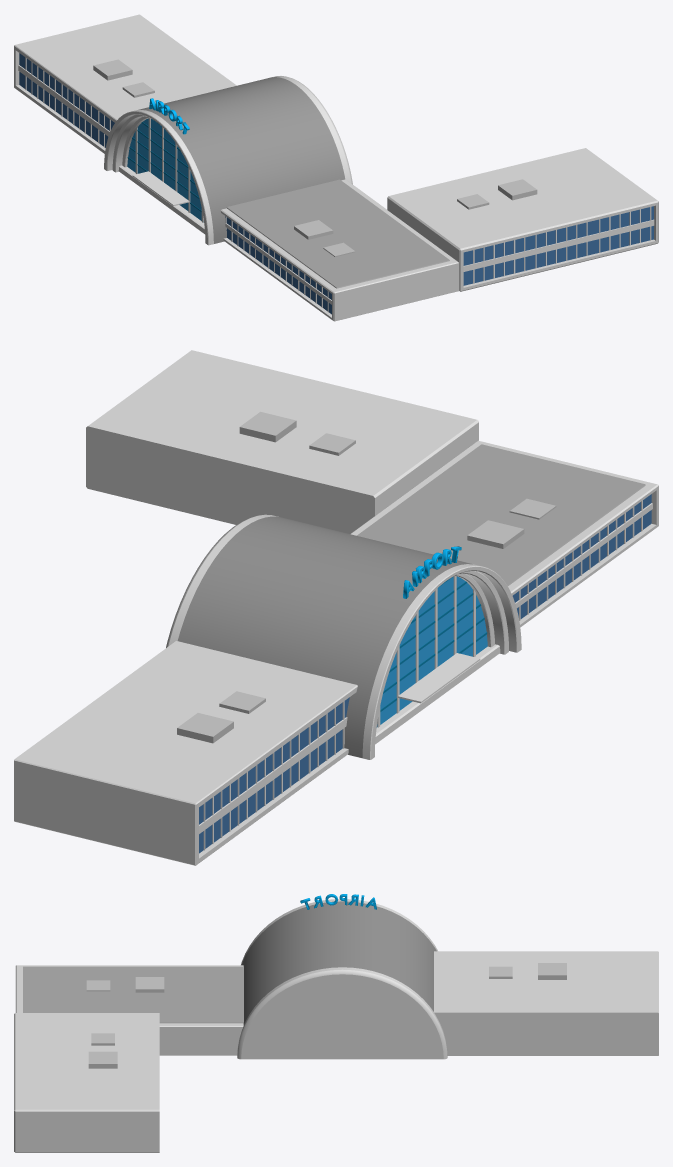
The model's file is AIRPORT2.fbx.
3 views of the same model, one above another, from view 1: azimuth 30°, elevation 25°; view 2: azimuth 150°, elevation 25°; view 3: azimuth 270°, elevation 25° (orthographic). The views are drawn at different scales.
Visible parts, largest first — view 1: Cube.018, Cube.013, Cylinder.011, Cube.007, Cylinder.014, Cube.022, Cube.029, Cube.004, Cube.008, Cube.012, Cylinder.012, Cube.005 (+5 smaller); view 2: Cube.007, Cube.018, Cylinder.011, Cube.013, Cylinder.014, Cube.029, Cube.004, Cube.012, Cube.008, Cylinder.012, Cube.027, Cube.023 (+4 smaller); view 3: Cylinder.011, Cube.007, Cube.018, Cube.013, Cube.027, Text, Cube.023, Cube.025.
Part boxes in pixels (<box>): Cube.018: <box>387,148,658,291</box>; Cube.013: <box>220,179,458,321</box>; Cylinder.011: <box>104,76,352,245</box>; Cube.007: <box>14,14,236,153</box>; Cylinder.014: <box>127,118,203,222</box>; Cube.022: <box>463,219,654,271</box>; Cube.029: <box>132,171,189,205</box>; Cube.004: <box>118,165,205,234</box>; Cube.008: <box>135,118,203,222</box>; Cube.012: <box>18,65,109,136</box>; Cylinder.012: <box>112,114,146,172</box>; Cube.005: <box>127,119,201,211</box>; Cube.007: <box>14,641,357,865</box>; Cube.018: <box>86,350,478,533</box>; Cylinder.011: <box>166,514,521,759</box>; Cube.013: <box>350,440,658,627</box>; Cylinder.014: <box>376,576,487,727</box>; Cube.029: <box>398,653,480,703</box>; Cube.004: <box>375,644,500,744</box>; Cube.012: <box>199,717,347,833</box>; Cube.008: <box>377,576,475,727</box>; Cylinder.012: <box>459,571,508,654</box>; Cube.027: <box>239,411,296,442</box>; Cube.023: <box>177,713,233,743</box>; Cylinder.011: <box>237,899,447,1059</box>; Cube.007: <box>434,951,658,1055</box>; Cube.018: <box>14,1013,159,1152</box>; Cube.013: <box>15,965,243,1055</box>; Cube.027: <box>88,1051,117,1068</box>; Text: <box>300,894,376,909</box>; Cube.023: <box>538,963,566,979</box>; Cube.025: <box>135,977,164,992</box>.
Size of the model in its own units: 1761 by 479 by 2857.
